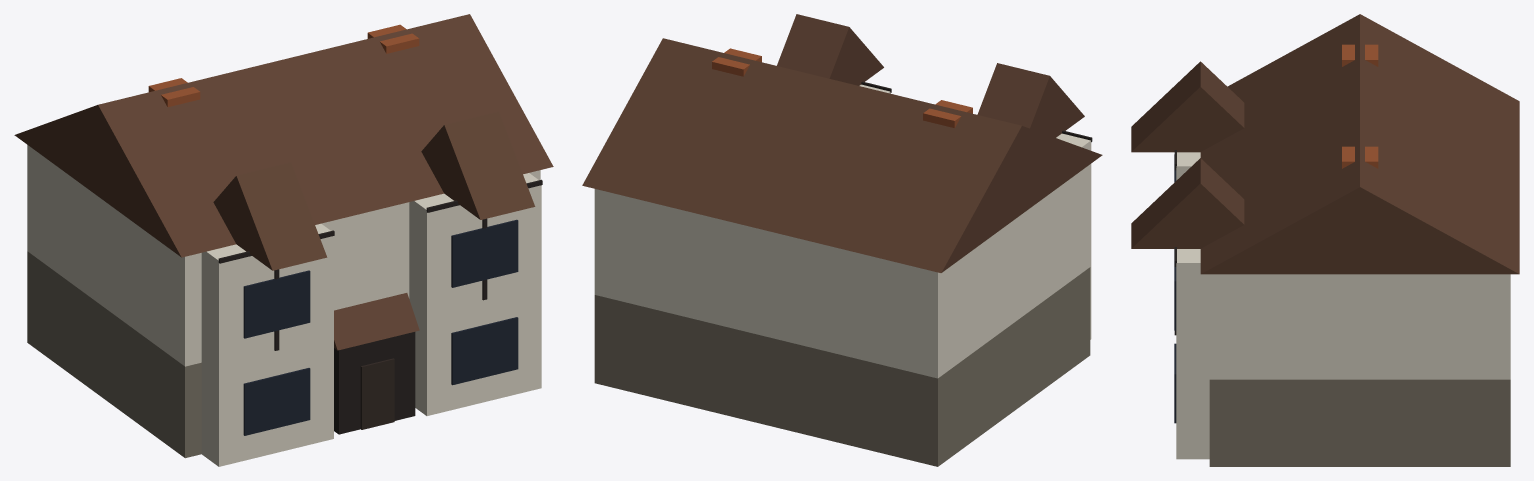
File: building_westyork_s4_tudor_manor.glb
3 views of the same model, side by side, from view 1: azimuth 30°, elevation 25°; view 2: azimuth 150°, elevation 25°; view 3: azimuth 270°, elevation 25° (orthographic). The views are drawn at different scales.
Parts seen in each view (by area): view 1: building_westyork_s4_tudor_manor; view 2: building_westyork_s4_tudor_manor; view 3: building_westyork_s4_tudor_manor.
Boxes of the visible parts, x1,y1,x2,y2 form: building_westyork_s4_tudor_manor: [14, 14, 553, 466]; building_westyork_s4_tudor_manor: [582, 14, 1102, 466]; building_westyork_s4_tudor_manor: [1131, 14, 1519, 466].
Size of the model in its own units: 13.6 by 10.4 by 12.9.
Materials: 1 (1 with a texture image).
